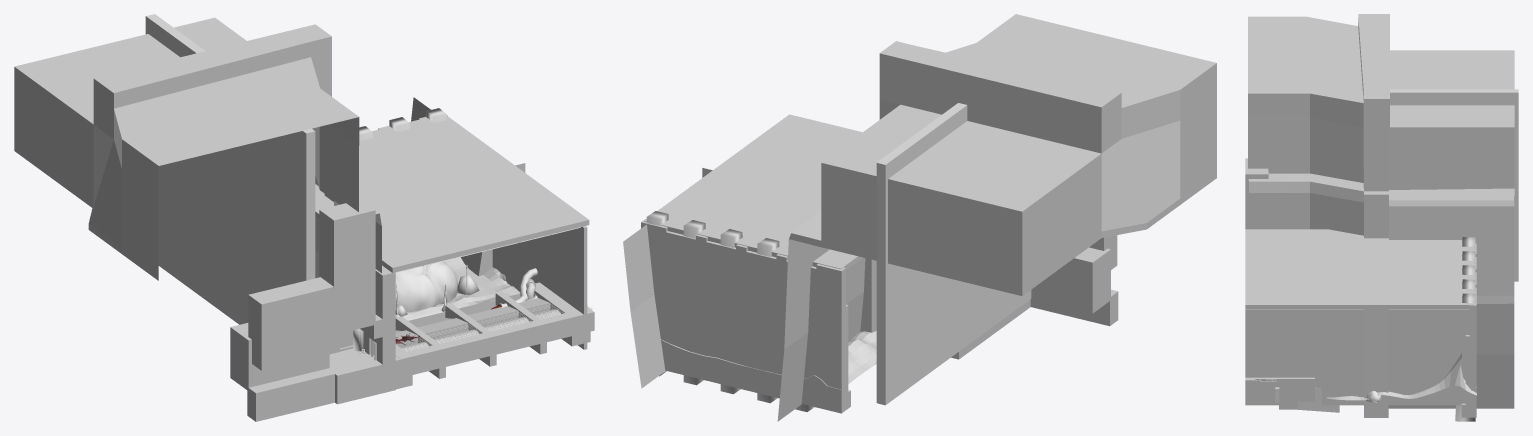
3 views of the same model, side by side, from view 1: azimuth 30°, elevation 25°; view 2: azimuth 150°, elevation 25°; view 3: azimuth 270°, elevation 25° (orthographic). The views are drawn at different scales.
Visible parts, largest first — view 1: Cube.237, Cube.152, Landscape.004; view 2: Cube.237, Cube.152; view 3: Cube.237, Cube.152.
Part boxes in pixels (x1,y1,x2,y2): Cube.237: [14, 17, 594, 421]; Cube.152: [145, 14, 315, 324]; Landscape.004: [395, 261, 505, 315]; Cube.237: [623, 14, 1216, 421]; Cube.152: [876, 103, 1031, 405]; Cube.237: [1245, 14, 1514, 421]; Cube.152: [1390, 89, 1518, 281].
Size of the model in its own units: 8708 by 6107 by 5953.
